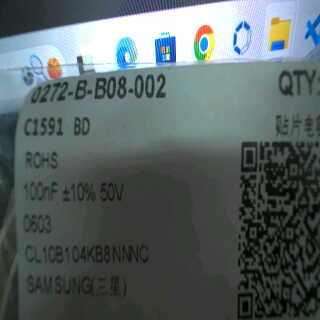100nF: (21, 177, 62, 207)
